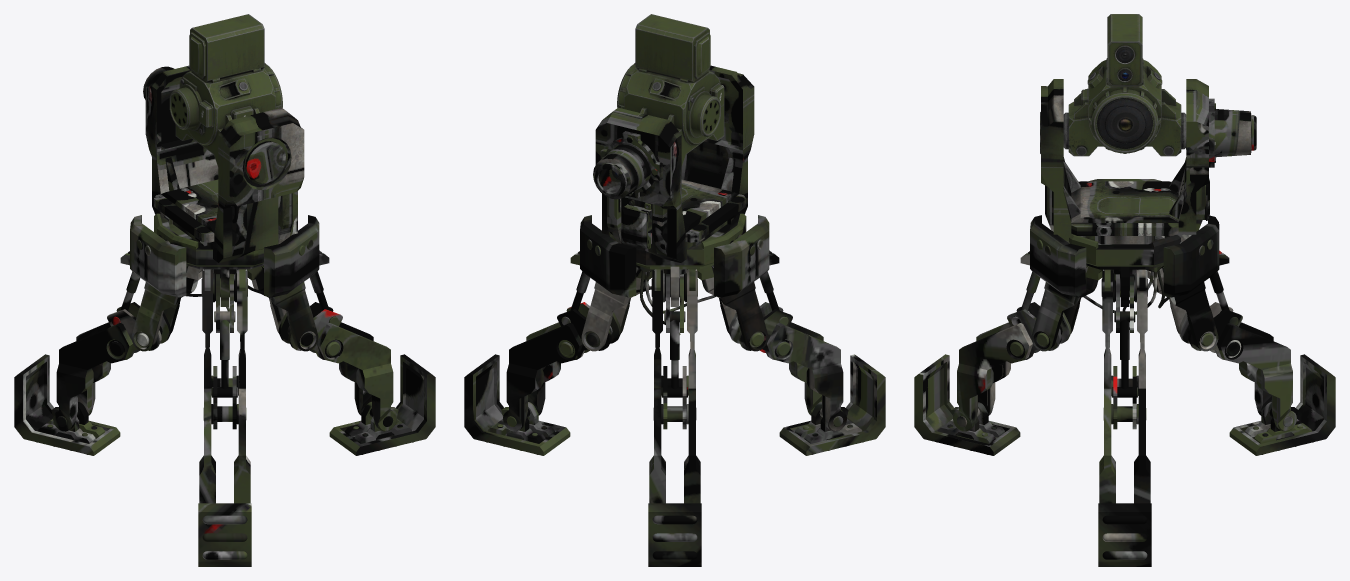
The model's file is Lazer_Turret1.fbx.
3 renders of one model, left to right at view 1: azimuth 30°, elevation 25°; view 2: azimuth 150°, elevation 25°; view 3: azimuth 270°, elevation 25°, orthographic.
Parts seen in each view (by area): view 1: S_Base, S_Mount, S_Head_Laser; view 2: S_Base, S_Mount, S_Head_Laser; view 3: S_Base, S_Mount, S_Head_Laser.
Boxes of the visible parts, bbox=[...] form: S_Base: bbox=[14, 213, 435, 566]; S_Mount: bbox=[143, 65, 304, 262]; S_Head_Laser: bbox=[169, 14, 282, 166]; S_Base: bbox=[464, 213, 885, 566]; S_Mount: bbox=[593, 65, 754, 262]; S_Head_Laser: bbox=[617, 14, 724, 166]; S_Base: bbox=[914, 179, 1335, 566]; S_Mount: bbox=[1040, 79, 1256, 244]; S_Head_Laser: bbox=[1063, 14, 1186, 156].
Bounding box in the file's own units: 137 × 185 × 156.
